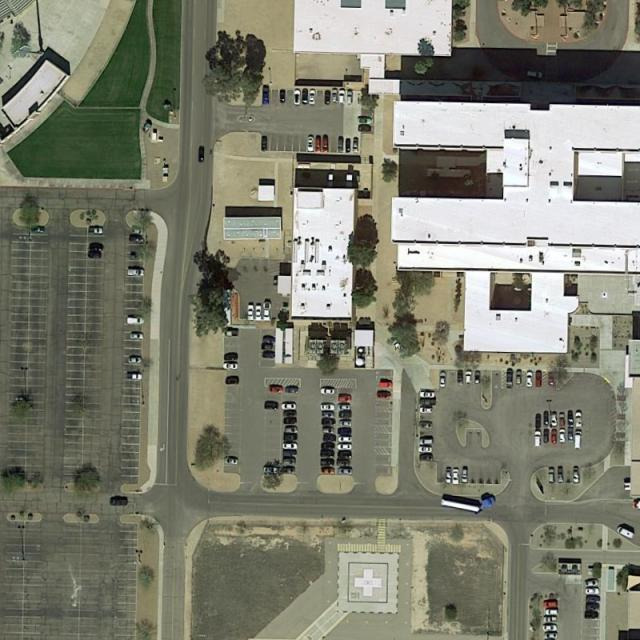vehicle: (438, 492, 495, 515), (616, 526, 635, 542), (124, 314, 144, 326), (320, 385, 338, 395), (126, 267, 144, 277), (222, 360, 240, 370), (263, 304, 272, 322), (262, 86, 270, 106), (282, 402, 298, 412), (320, 404, 336, 414), (306, 136, 315, 153), (308, 89, 317, 106), (419, 390, 436, 399), (525, 370, 534, 387), (574, 412, 583, 429), (585, 611, 602, 620), (110, 498, 129, 506), (419, 399, 438, 407), (358, 123, 373, 133), (464, 370, 474, 385), (322, 136, 330, 154), (546, 468, 555, 484), (526, 69, 542, 78), (575, 431, 582, 451), (127, 372, 144, 380), (438, 373, 446, 390), (331, 89, 339, 106), (302, 89, 310, 106), (506, 371, 514, 388), (130, 234, 145, 243), (547, 371, 556, 386), (130, 226, 145, 235), (418, 421, 434, 429), (356, 117, 372, 125), (346, 90, 354, 106), (282, 442, 298, 450), (534, 413, 542, 429), (550, 410, 558, 426), (558, 411, 566, 427), (543, 429, 551, 445), (551, 429, 559, 445), (573, 467, 581, 483), (315, 135, 322, 153), (340, 410, 354, 419), (534, 430, 541, 448), (247, 305, 255, 320), (419, 438, 434, 446), (419, 446, 434, 454), (282, 449, 297, 457), (338, 395, 353, 403), (320, 450, 335, 458), (320, 458, 335, 466), (474, 370, 482, 385), (279, 88, 286, 105), (536, 371, 543, 388), (462, 466, 469, 483), (567, 413, 574, 430), (270, 384, 283, 393), (225, 353, 239, 361), (338, 136, 345, 152), (352, 137, 359, 153), (324, 90, 331, 106), (198, 146, 205, 162), (339, 419, 353, 427), (338, 450, 352, 458), (378, 391, 392, 399), (452, 469, 459, 485), (558, 429, 566, 443), (266, 401, 278, 410), (127, 357, 142, 364), (338, 90, 345, 105), (322, 418, 337, 425), (322, 442, 337, 449), (515, 369, 522, 384), (543, 410, 550, 425), (586, 596, 601, 603), (225, 457, 238, 465), (286, 385, 299, 393), (285, 426, 298, 434), (285, 433, 298, 441), (282, 466, 295, 474), (346, 136, 352, 153), (294, 89, 300, 106), (543, 602, 560, 608), (226, 330, 240, 337), (255, 306, 262, 320), (420, 454, 434, 461), (567, 428, 574, 442), (283, 410, 297, 417), (31, 227, 47, 233), (261, 136, 267, 152), (262, 342, 274, 350), (322, 467, 334, 475), (263, 467, 279, 473), (338, 468, 354, 474), (284, 418, 297, 425), (89, 244, 104, 250), (87, 252, 102, 258), (419, 408, 434, 414), (338, 428, 353, 434), (338, 436, 353, 442), (557, 467, 563, 482), (584, 581, 602, 586), (543, 617, 558, 623), (585, 589, 602, 594), (90, 227, 104, 233), (262, 352, 276, 358), (283, 459, 297, 465), (338, 460, 352, 466), (544, 610, 558, 616), (446, 468, 451, 484), (378, 382, 394, 387), (632, 500, 640, 510), (338, 404, 351, 410), (322, 427, 335, 433), (338, 444, 351, 450), (323, 434, 336, 440), (458, 371, 463, 386), (585, 605, 600, 610), (543, 626, 558, 631), (226, 378, 238, 384), (16, 395, 26, 402), (544, 634, 558, 639), (131, 334, 144, 339), (263, 338, 276, 343)
